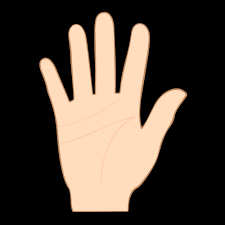palm: (58, 94, 154, 183)
